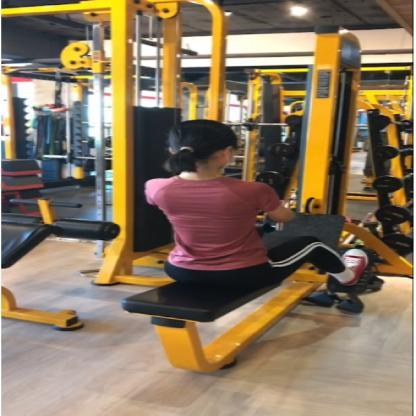Seated Cable Rows: (90, 31, 416, 370)
